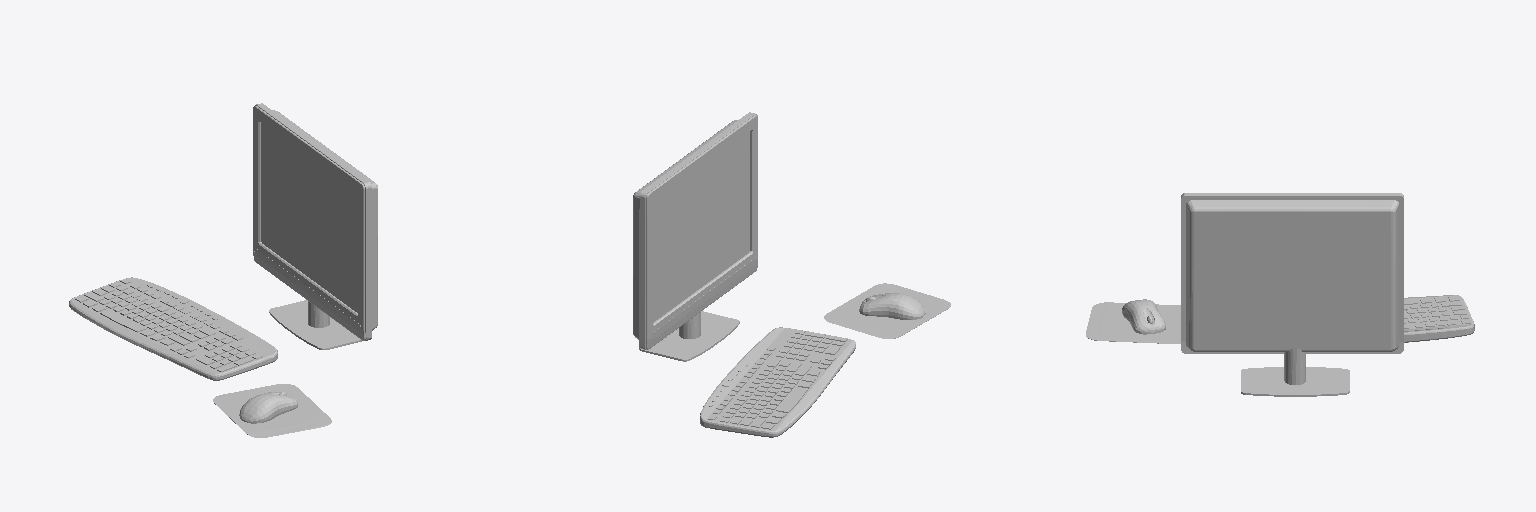
The model's file is monitor3.obj.
3 renders of one model, left to right at view 1: azimuth 30°, elevation 25°; view 2: azimuth 150°, elevation 25°; view 3: azimuth 270°, elevation 25°, orthographic.
Parts seen in each view (by area): view 1: 3d-model.001_3d-model.012; view 2: 3d-model.001_3d-model.012; view 3: 3d-model.001_3d-model.012.
Part boxes in pixels (left/top/right/bottom): 3d-model.001_3d-model.012: left=69, top=103, right=377, bottom=437; 3d-model.001_3d-model.012: left=633, top=112, right=950, bottom=437; 3d-model.001_3d-model.012: left=1086, top=193, right=1474, bottom=396.
Bounding box in the file's own units: 3.42 × 3.05 × 5.8.